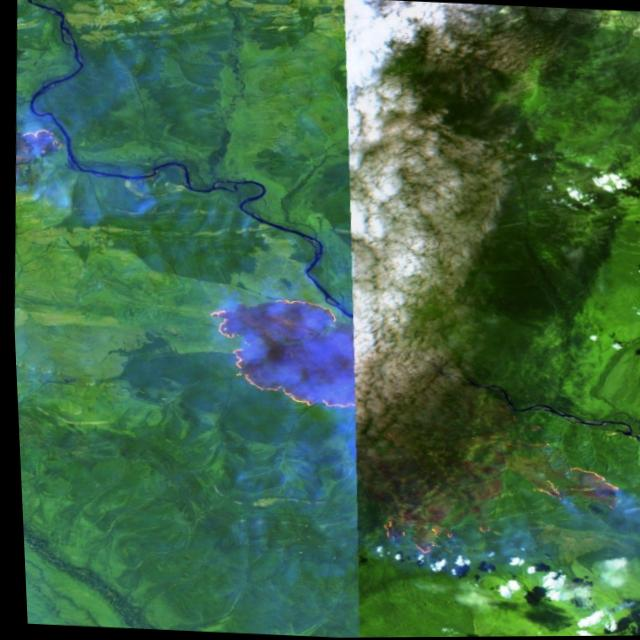fire: (373, 453, 625, 574), (193, 283, 372, 415), (12, 118, 72, 167)
